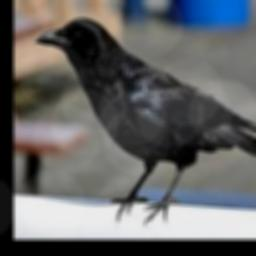Crow: (34, 16, 256, 221)
